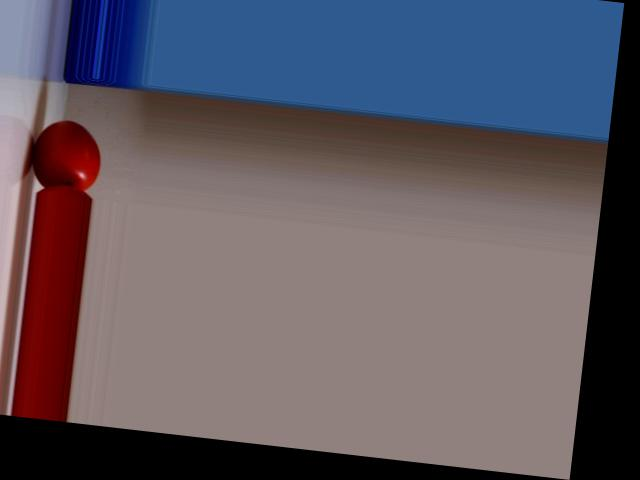tomato: (29, 117, 104, 191)
